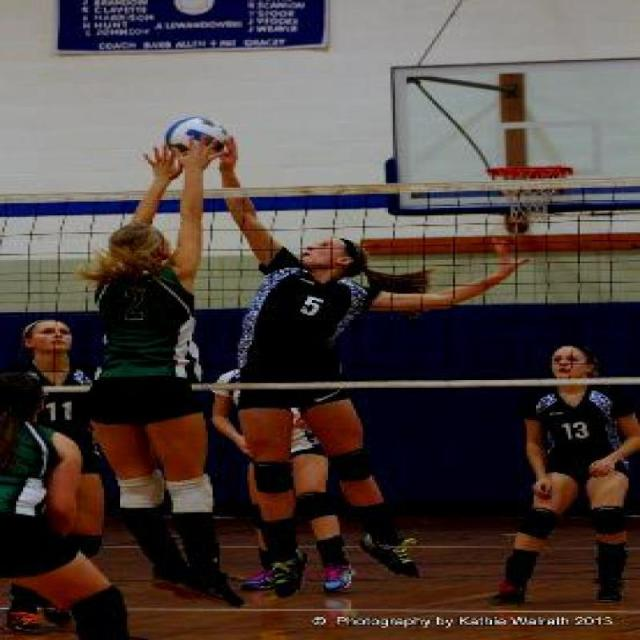volleyball: (164, 114, 234, 158)
